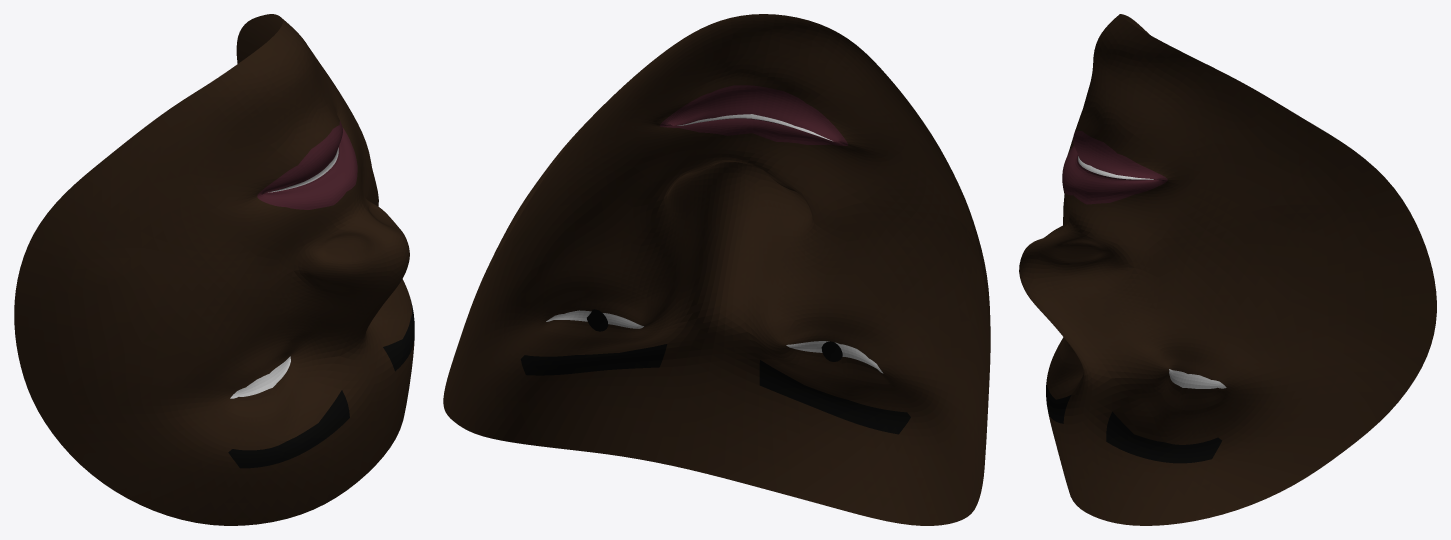
The model's file is frame_00156.obj.
3 renders of one model, left to right at view 1: azimuth 30°, elevation 25°; view 2: azimuth 150°, elevation 25°; view 3: azimuth 270°, elevation 25°, orthographic. The views are drawn at different scales.
Visible parts, largest first — view 1: face_mesh_subdivided; view 2: face_mesh_subdivided; view 3: face_mesh_subdivided.
Part boxes in pixels (left/top/right/bottom): face_mesh_subdivided: left=14, top=14, right=414, bottom=525; face_mesh_subdivided: left=443, top=14, right=990, bottom=525; face_mesh_subdivided: left=1019, top=14, right=1436, bottom=525.
Size of the model in its own units: 0.5008 by 0.5332 by 0.436.
